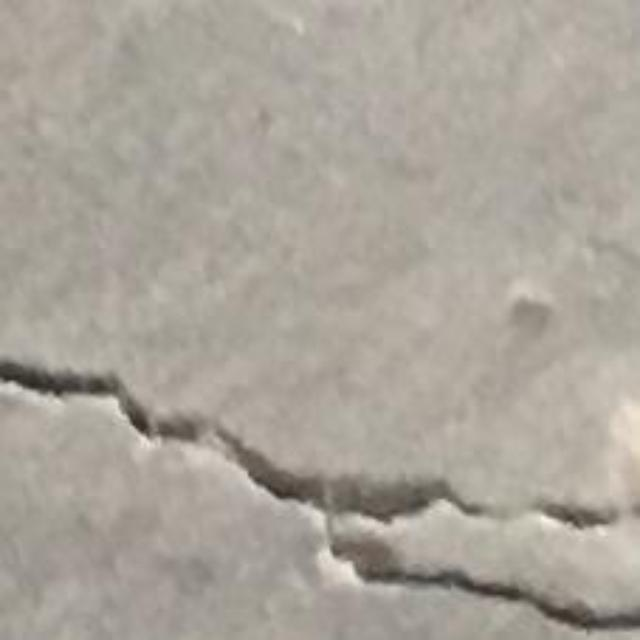crack: (0, 359, 639, 628)
